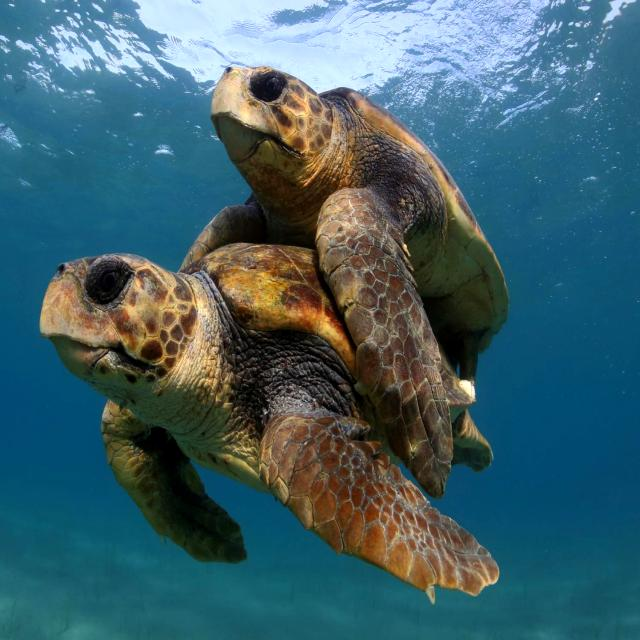Sea turtle: (19, 202, 530, 609), (175, 55, 525, 453)
